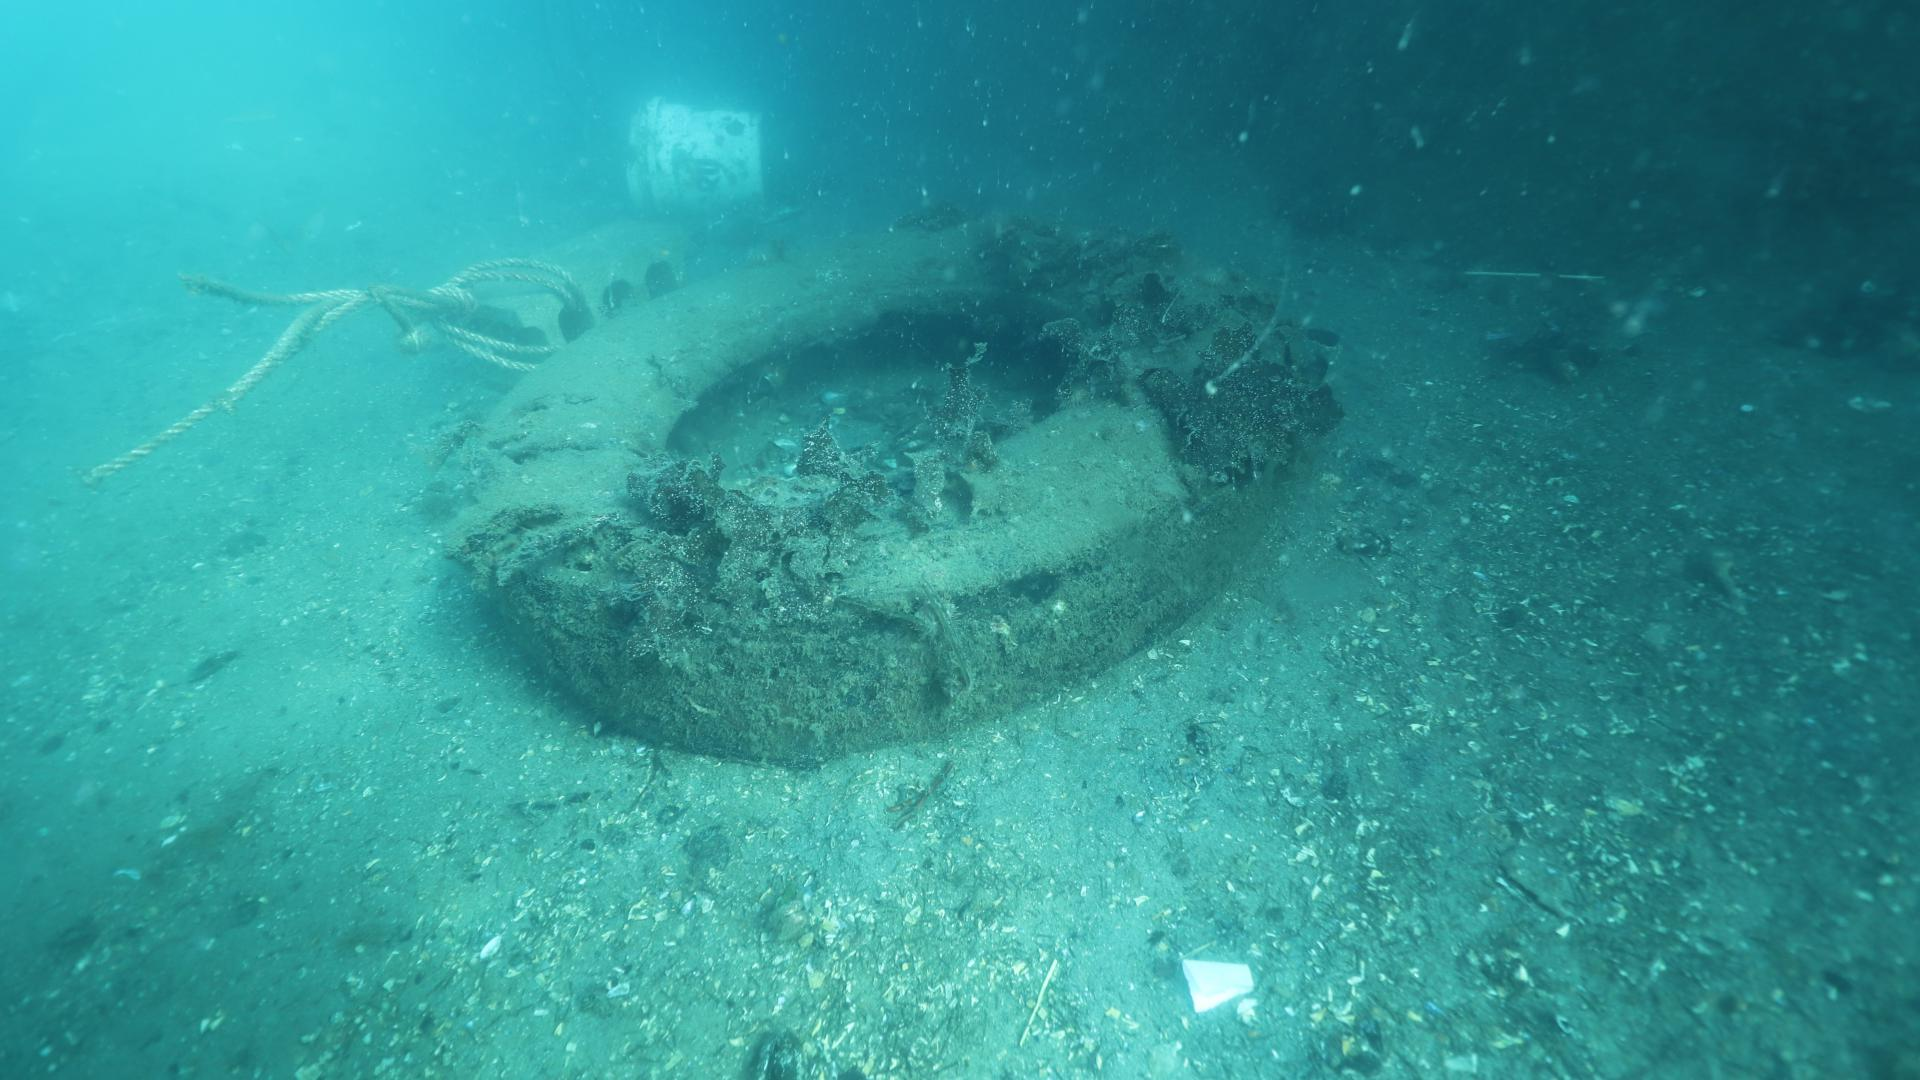bundle of ropes: (80, 256, 595, 489)
tire: (468, 241, 1284, 762)
